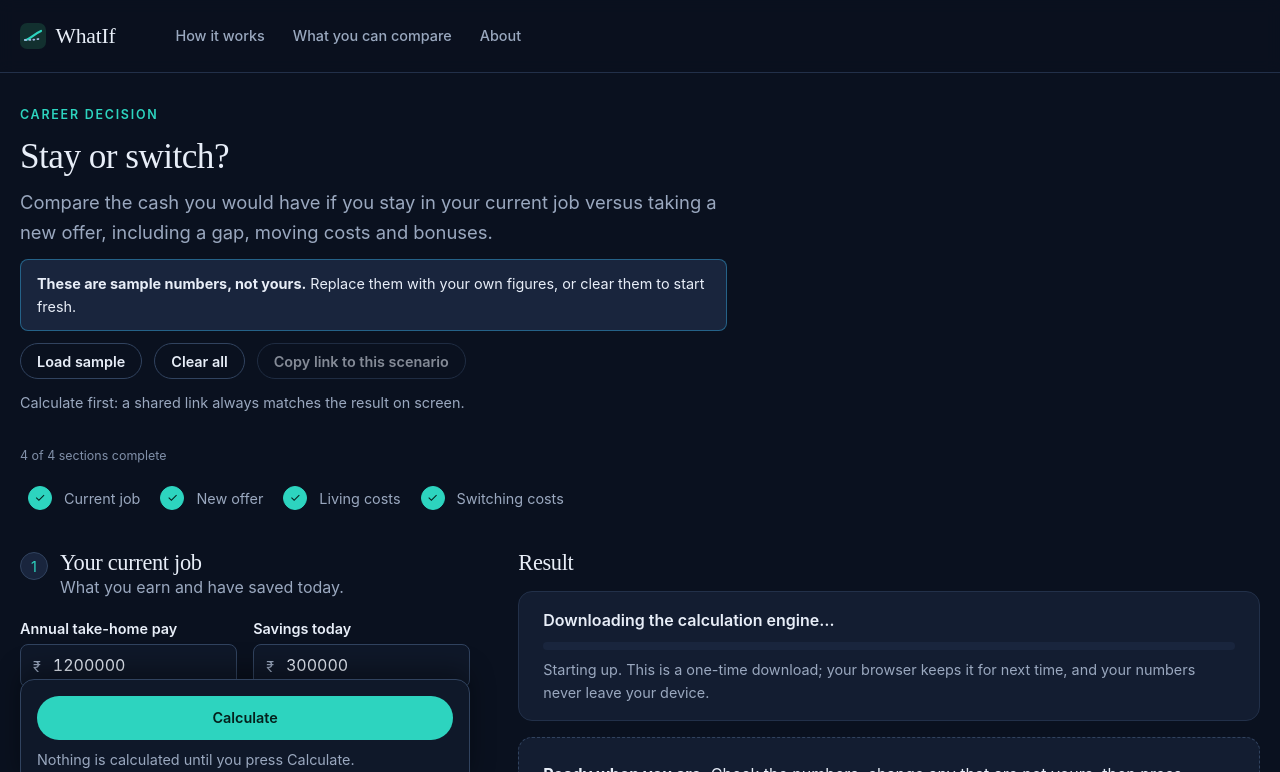
Test case: decision workspace › blocks the request and shows field errors when required pay is missing
The image size is (1280, 772).
Expected: the text "These are sample numbers, not yours." is shown, [37,275,306,292]
Click the button "Clear all" at x=200, y=361, box [154,343,245,379]
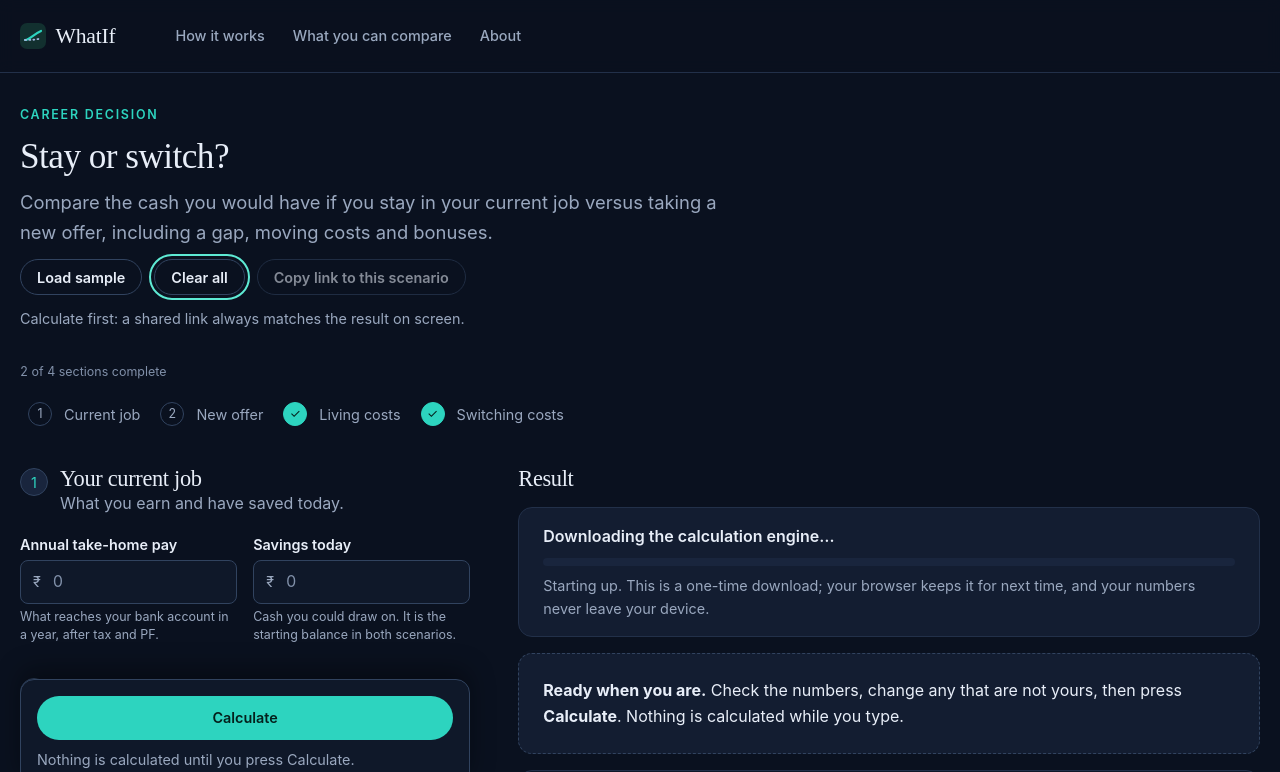
Expected: the text "Enter your current take-home pay" is not shown
Click the button "Calculate" at x=245, y=718, box [37,696,453,740]
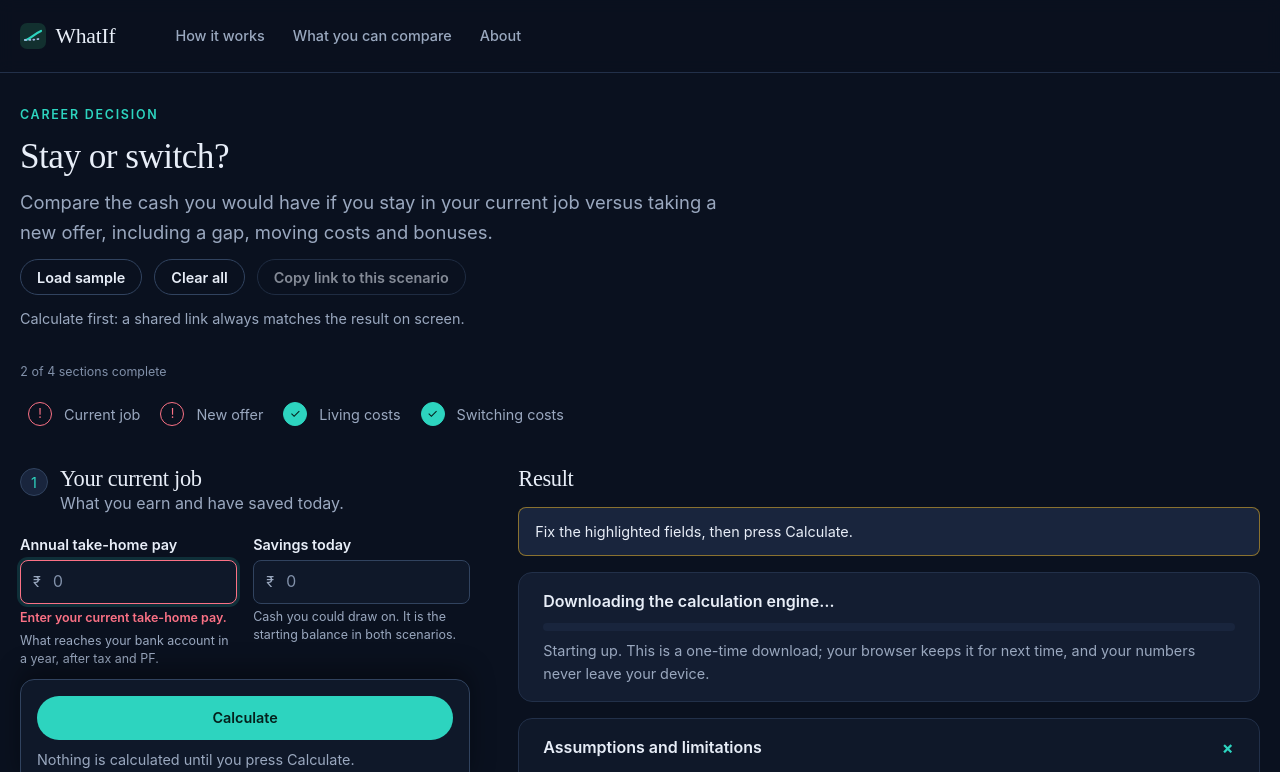
Expected: the text "Enter your current take-home pay." is shown, [20,608,237,628]
Expected: the text "Fix the highlighted fields, then press Calculate." is shown, [518,507,1260,556]
